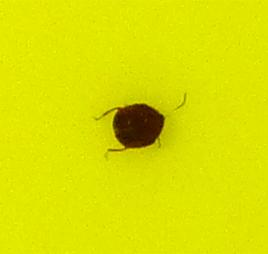Coleoptera: (100, 100, 168, 154)
